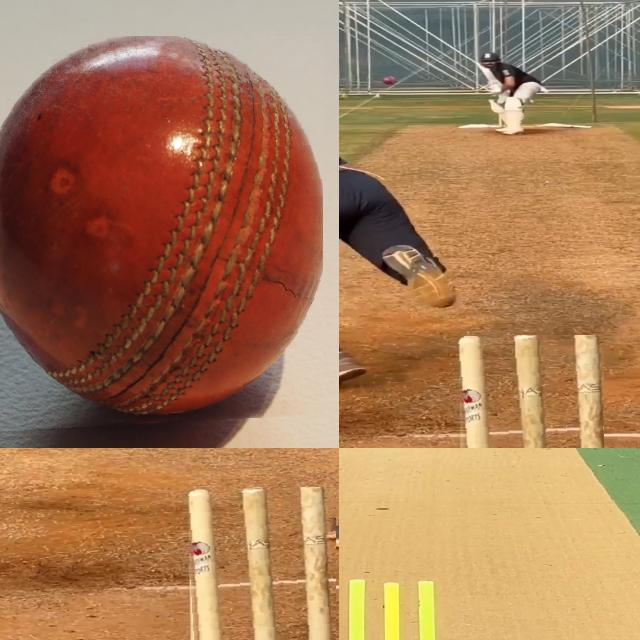Cricket ball: (0, 36, 323, 431), (382, 75, 398, 86)
Stumps: (185, 487, 336, 640), (454, 335, 603, 448), (339, 578, 460, 640)
